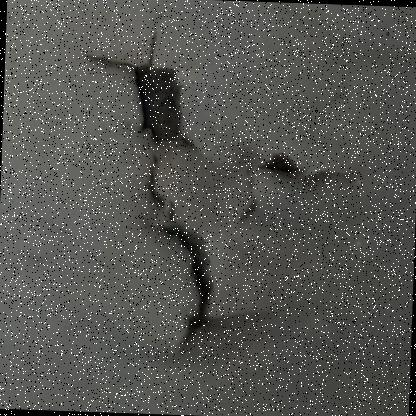Crack: (63, 13, 378, 378)
